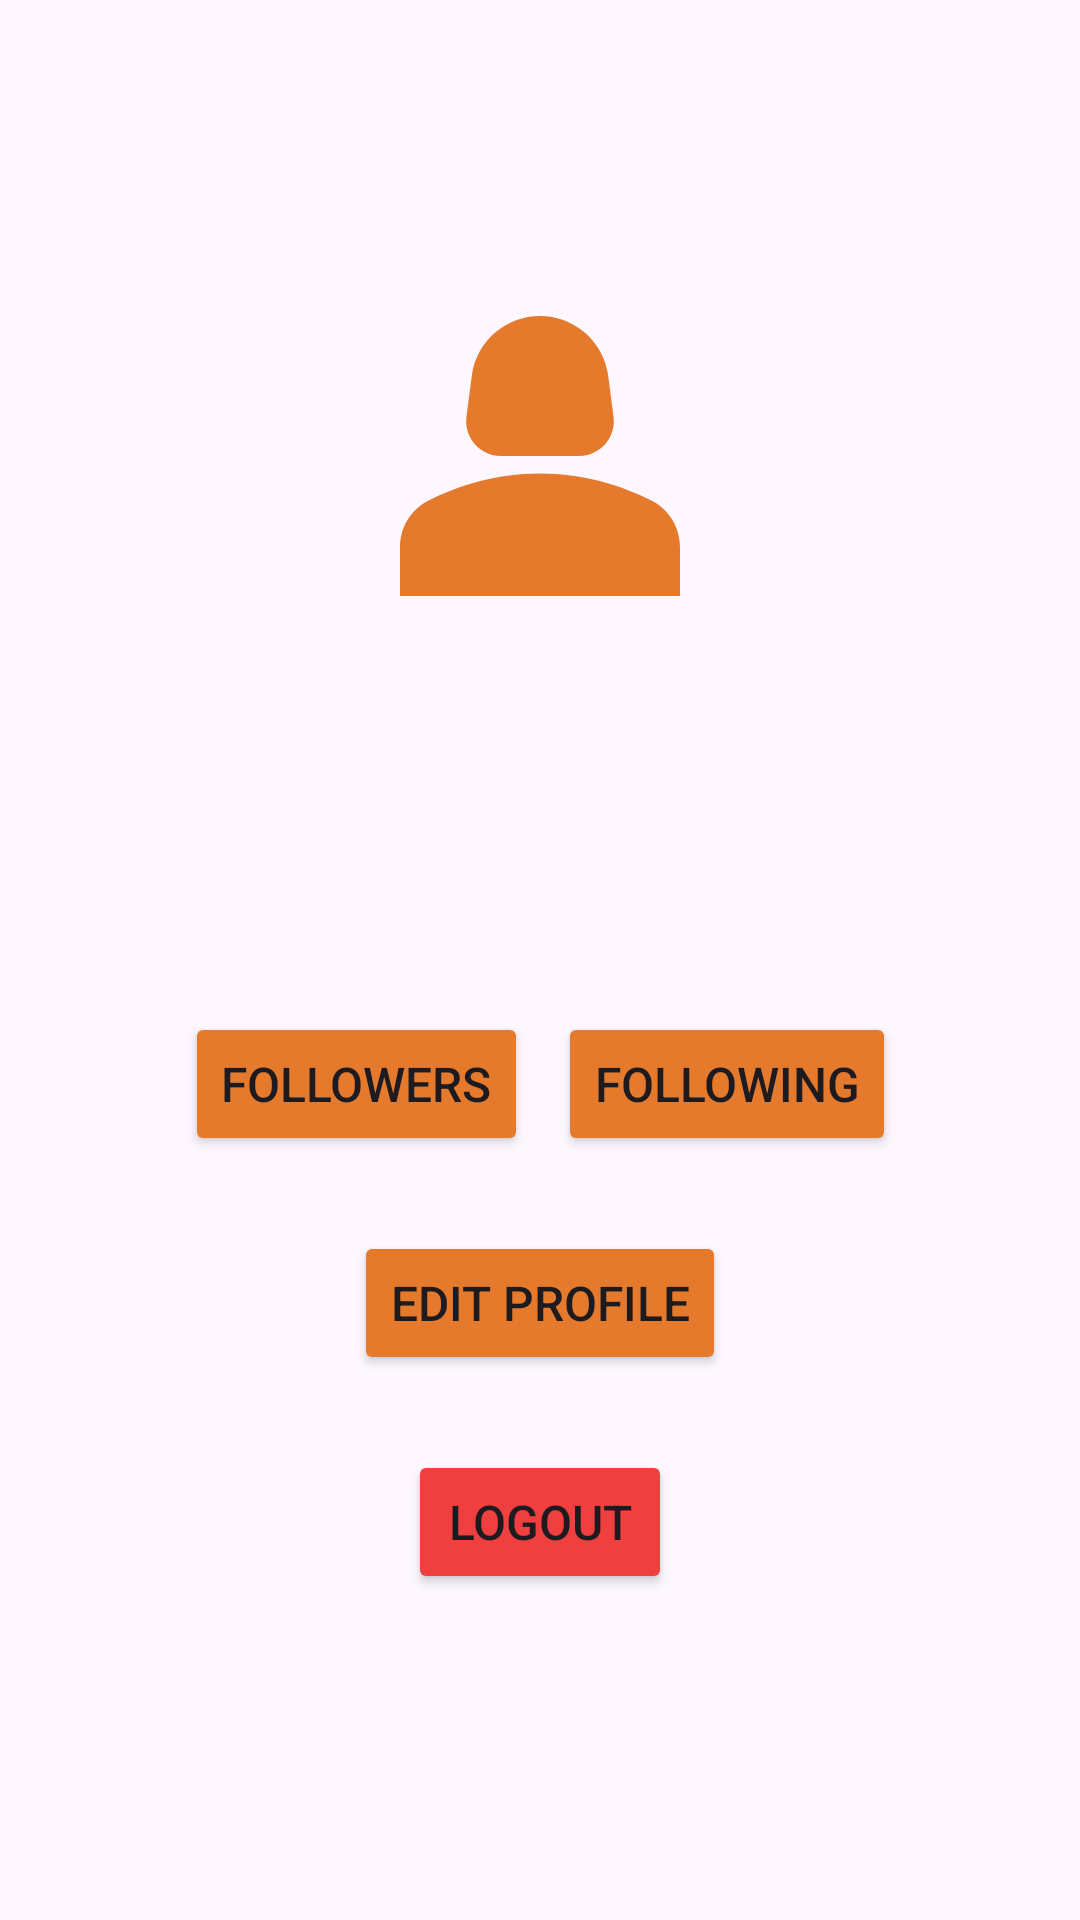

Where to tap for icons on this 1080px x 1920px app screen, as [x,y]:
user: [540,456]
